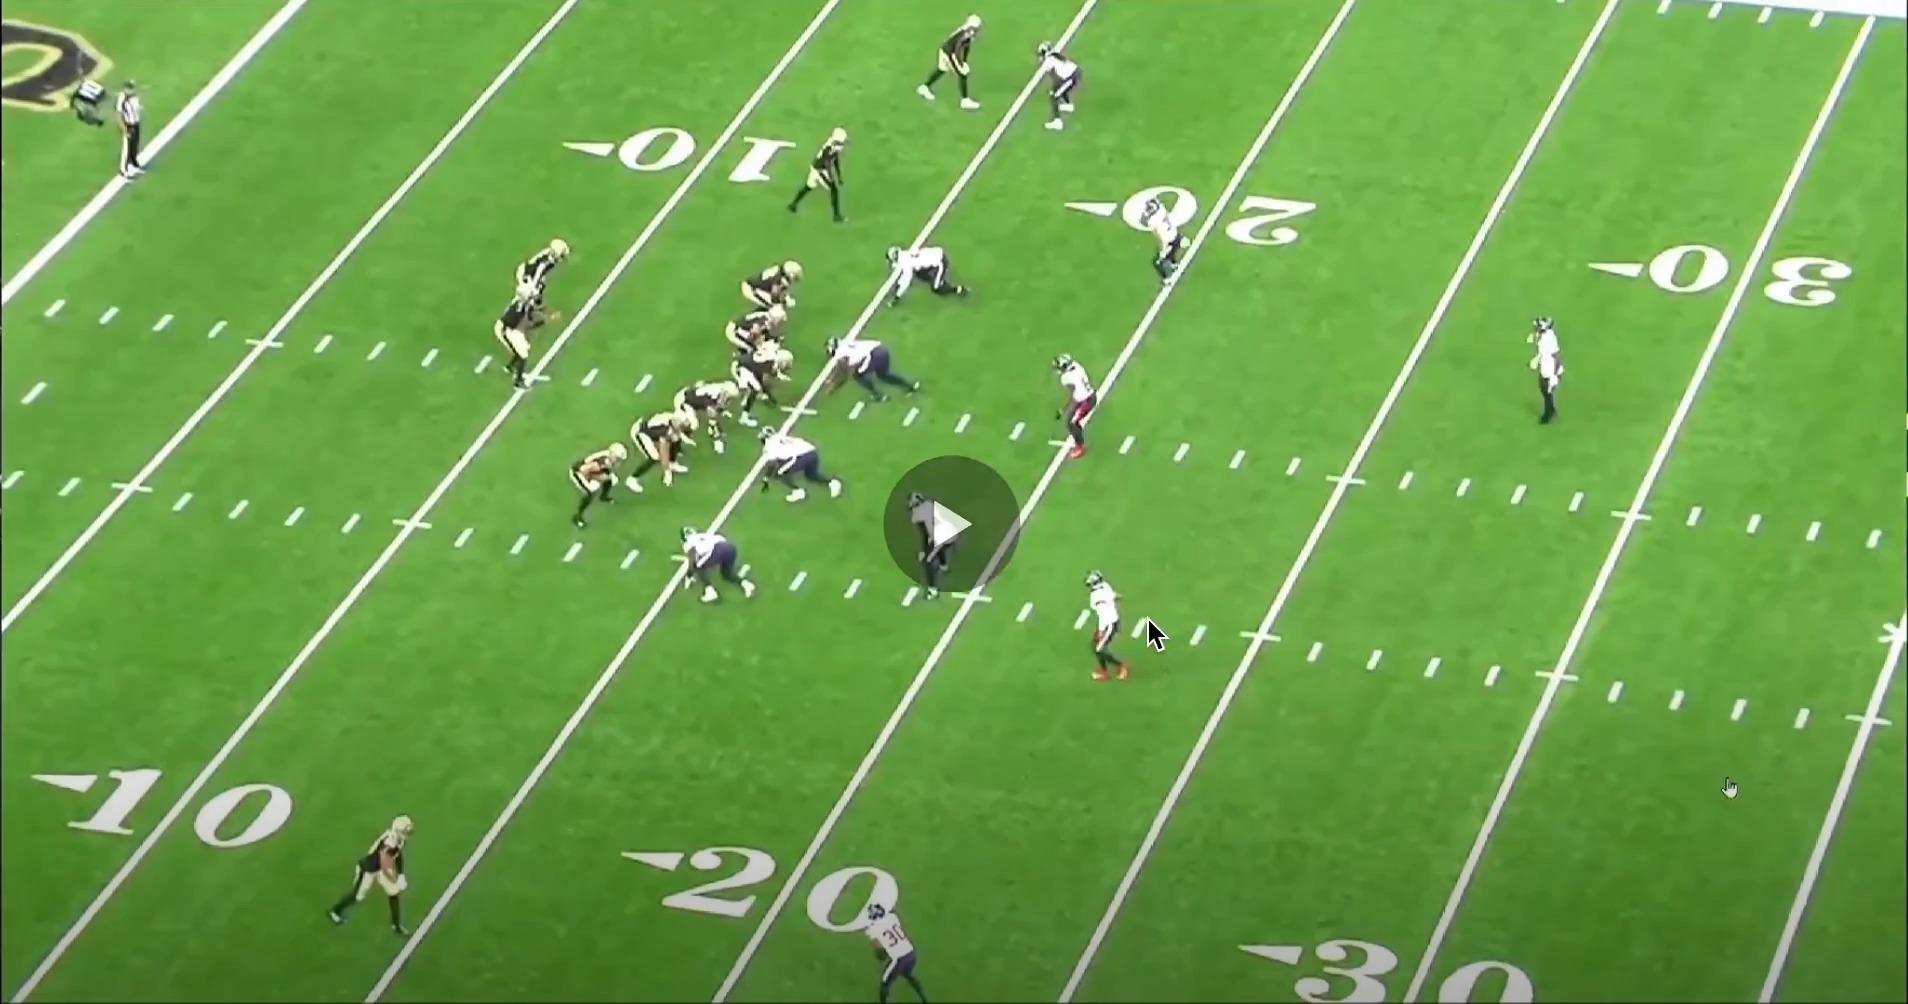player: (328, 813, 427, 947), (754, 423, 853, 509), (672, 523, 762, 613), (852, 900, 929, 1004), (919, 10, 995, 114), (814, 336, 919, 410), (792, 123, 864, 227), (908, 489, 973, 602), (497, 275, 559, 393), (624, 407, 699, 493), (566, 438, 629, 531), (724, 341, 796, 422), (1089, 571, 1137, 692), (883, 240, 969, 306), (513, 239, 570, 337), (668, 377, 741, 453), (1049, 353, 1097, 467), (1521, 315, 1567, 432), (1138, 199, 1189, 297), (1039, 39, 1091, 134), (737, 255, 806, 310), (726, 303, 793, 356)
ref: (116, 77, 156, 187)
